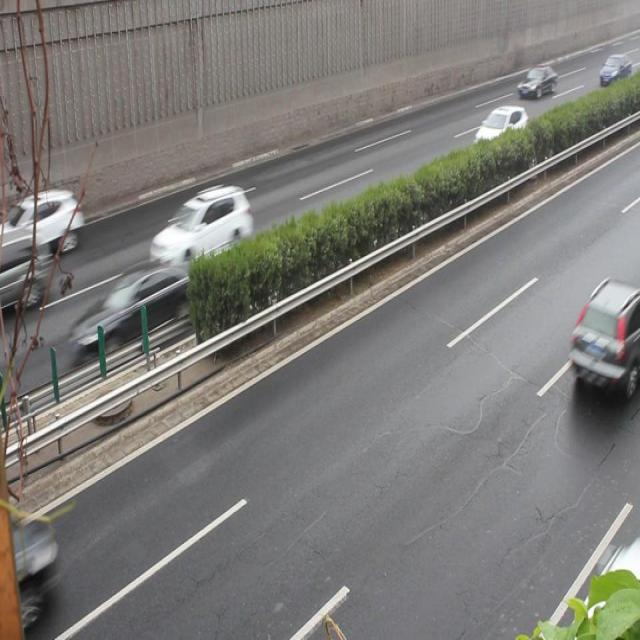car: (69, 257, 198, 359), (149, 183, 252, 269), (566, 275, 639, 392), (12, 186, 83, 257), (470, 103, 529, 159), (516, 61, 555, 98)
